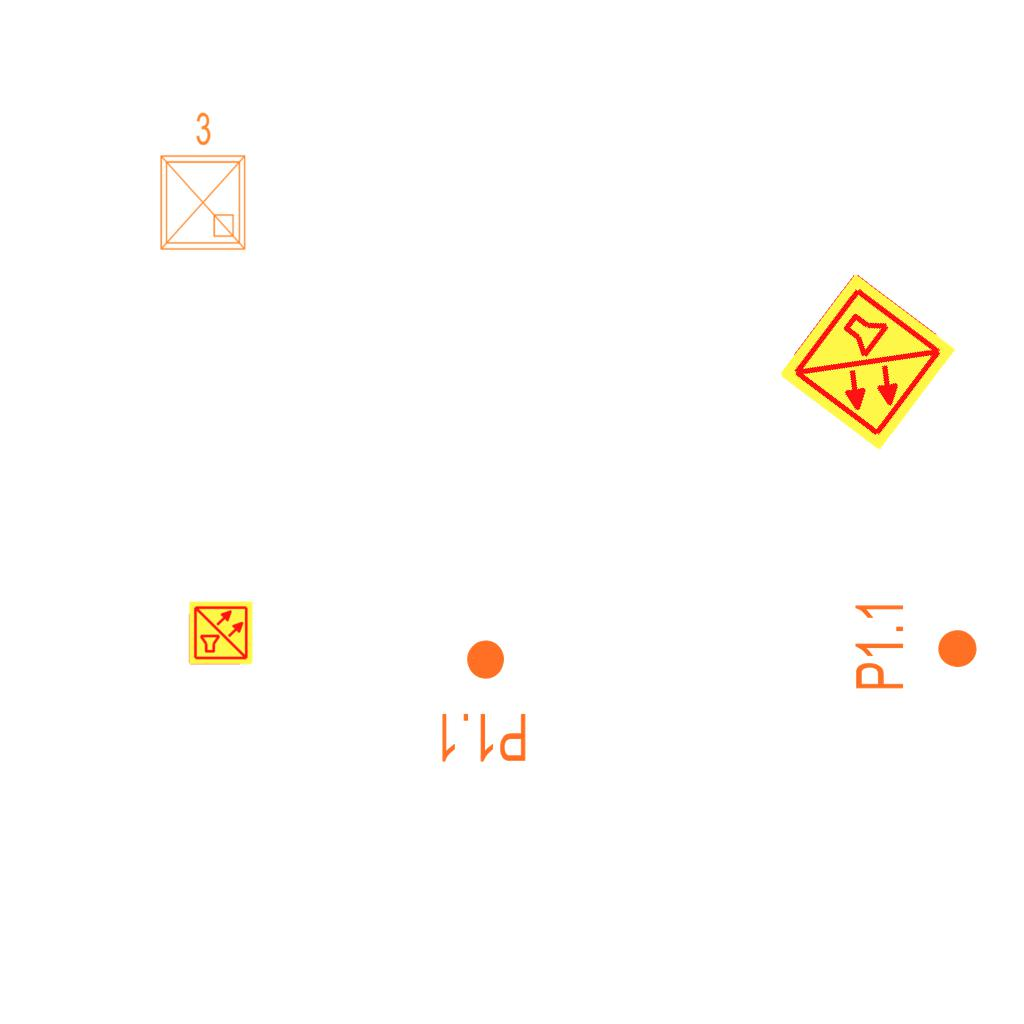Downlight_LED_Einbauleuchten_Flur: (852, 599, 980, 692), (436, 637, 529, 765)
Einbaudownlights_LED_Konferenzraeume: (149, 107, 253, 257)
OKW_Multisensormelder_(Kombination_optischer_Rauch-Kahlenmonoxid_Waerme-Melder): (774, 269, 960, 455), (188, 600, 254, 666)
